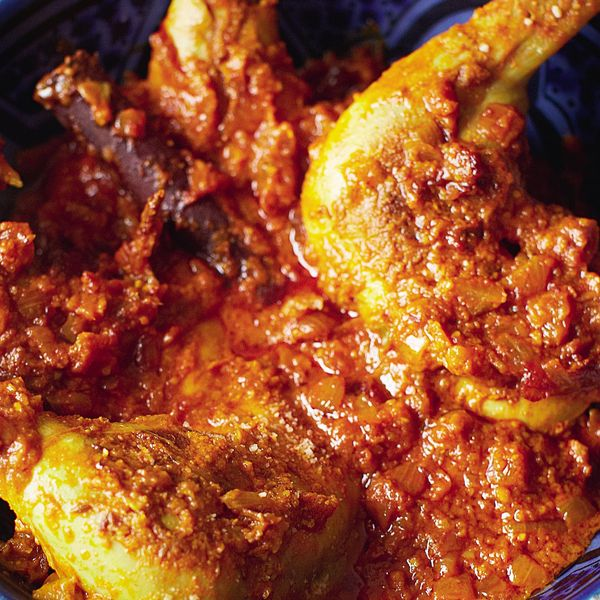chicken_curry: (38, 36, 579, 584)
